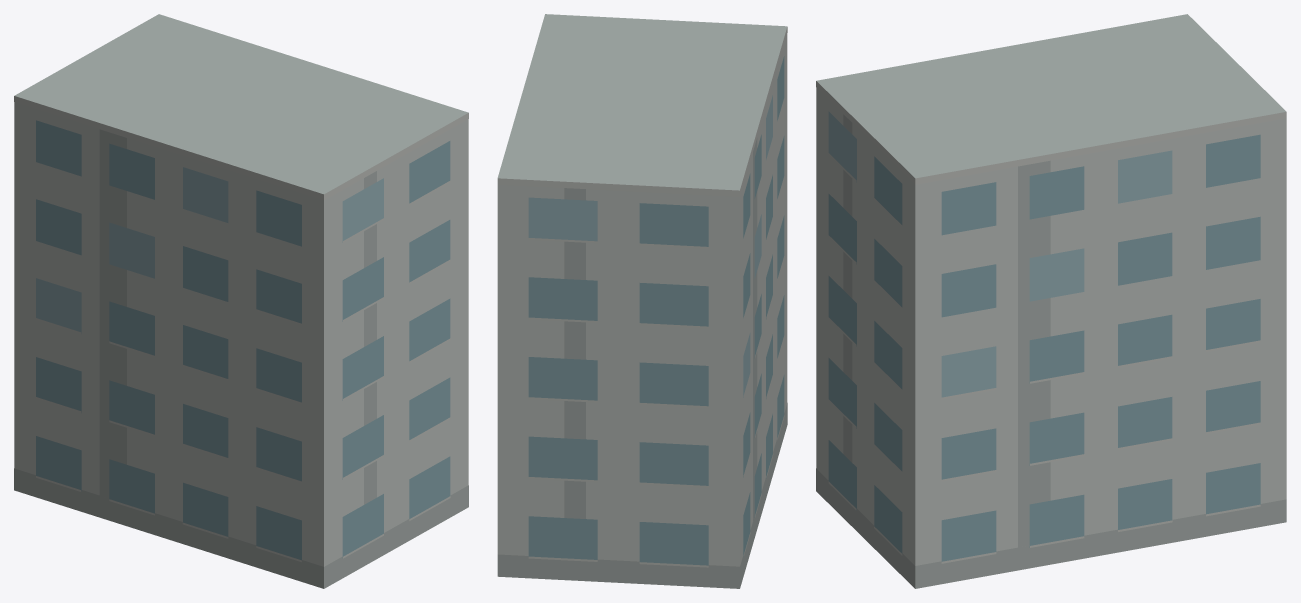
Rendered from survey-upis-32924868.glb.
3 renders of one model, left to right at view 1: azimuth 30°, elevation 25°; view 2: azimuth 150°, elevation 25°; view 3: azimuth 270°, elevation 25°, orthographic. The views are drawn at different scales.
Parts seen in each view (by area): view 1: survey-upis-32924868.tmp; view 2: survey-upis-32924868.tmp; view 3: survey-upis-32924868.tmp.
Boxes of the visible parts, x1,y1,x2,y2 form: survey-upis-32924868.tmp: (14,14,468,588); survey-upis-32924868.tmp: (497,14,787,588); survey-upis-32924868.tmp: (816,14,1286,588).
Bounding box in the file's own units: 13.15 × 15.3 × 15.9.
